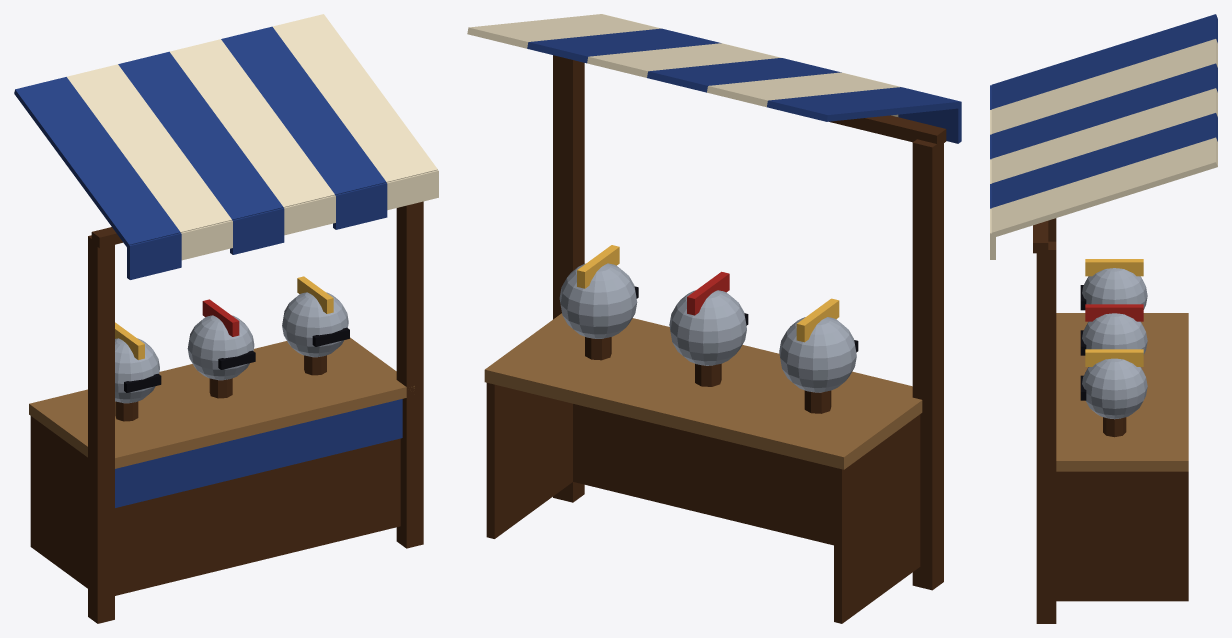
Rendered from shop_armor_stall.gltf.
The picture shows the model from 3 angles, left to right: view 1: azimuth 30°, elevation 25°; view 2: azimuth 150°, elevation 25°; view 3: azimuth 270°, elevation 25°; orthographic projection. The views are drawn at different scales.
Parts seen in each view (by area): view 1: ShopArmorStallShopWood, ShopArmorStallShopCloth, ShopArmorStallShopCream, ShopArmorStallShopWoodLight, ShopArmorStallShopSteel, ShopArmorStallShopIron, ShopArmorStallShopGold, ShopArmorStallShopRed; view 2: ShopArmorStallShopWood, ShopArmorStallShopWoodLight, ShopArmorStallShopSteel, ShopArmorStallShopCloth, ShopArmorStallShopCream, ShopArmorStallShopGold, ShopArmorStallShopRed; view 3: ShopArmorStallShopWood, ShopArmorStallShopCream, ShopArmorStallShopCloth, ShopArmorStallShopWoodLight, ShopArmorStallShopSteel, ShopArmorStallShopGold, ShopArmorStallShopRed, ShopArmorStallShopIron.
Part boxes in pixels (x1=…): ShopArmorStallShopWood: x1=30, y1=201, x2=423, y2=623; ShopArmorStallShopCloth: x1=14, y1=26, x2=402, y2=507; ShopArmorStallShopCream: x1=67, y1=14, x2=438, y2=260; ShopArmorStallShopWoodLight: x1=29, y1=337, x2=414, y2=468; ShopArmorStallShopSteel: x1=115, y1=292, x2=348, y2=403; ShopArmorStallShopIron: x1=124, y1=327, x2=349, y2=392; ShopArmorStallShopGold: x1=115, y1=276, x2=333, y2=359; ShopArmorStallShopRed: x1=202, y1=299, x2=239, y2=336; ShopArmorStallShopWood: x1=486, y1=55, x2=946, y2=623; ShopArmorStallShopWoodLight: x1=484, y1=313, x2=922, y2=469; ShopArmorStallShopSteel: x1=559, y1=263, x2=856, y2=392; ShopArmorStallShopCloth: x1=527, y1=28, x2=961, y2=143; ShopArmorStallShopCream: x1=467, y1=14, x2=901, y2=116; ShopArmorStallShopGold: x1=577, y1=245, x2=839, y2=342; ShopArmorStallShopRed: x1=687, y1=271, x2=729, y2=315; ShopArmorStallShopWood: x1=1033, y1=218, x2=1188, y2=623; ShopArmorStallShopCream: x1=990, y1=39, x2=1217, y2=259; ShopArmorStallShopCloth: x1=990, y1=14, x2=1217, y2=208; ShopArmorStallShopWoodLight: x1=1056, y1=313, x2=1188, y2=471; ShopArmorStallShopSteel: x1=1082, y1=268, x2=1147, y2=419; ShopArmorStallShopGold: x1=1085, y1=259, x2=1143, y2=366; ShopArmorStallShopRed: x1=1085, y1=304, x2=1143, y2=321; ShopArmorStallShopIron: x1=1080, y1=285, x2=1086, y2=400.
Size of what is drawn, in the model's own units: 1.9 by 2.59 by 1.17.
